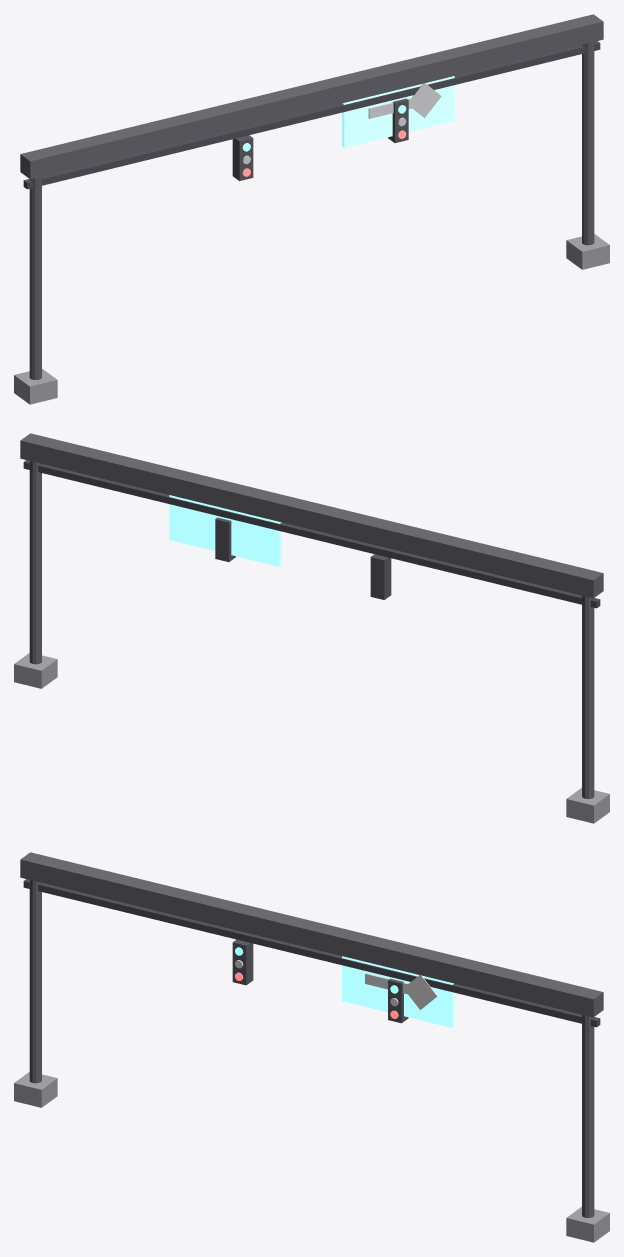
The model's file is bt-fh6-gantry.glb.
3 renders of one model, top to bottom at view 1: azimuth 30°, elevation 25°; view 2: azimuth 150°, elevation 25°; view 3: azimuth 330°, elevation 25°, orthographic.
Parts seen in each view (by area): view 1: bt-fh6-gantry_beam, bt-fh6-gantry_truss, bt-fh6-gantry_bluesign, bt-fh6-gantry_post1, bt-fh6-gantry_post-1, bt-fh6-gantry_foot1, bt-fh6-gantry_foot-1, bt-fh6-gantry_sigbox-2.0, bt-fh6-gantry_sigbox2.5, bt-fh6-gantry_arw1; view 2: bt-fh6-gantry_beam, bt-fh6-gantry_truss, bt-fh6-gantry_bluesign, bt-fh6-gantry_post1, bt-fh6-gantry_post-1, bt-fh6-gantry_foot1, bt-fh6-gantry_foot-1, bt-fh6-gantry_sigbox-2.0, bt-fh6-gantry_sigbox2.5; view 3: bt-fh6-gantry_beam, bt-fh6-gantry_truss, bt-fh6-gantry_bluesign, bt-fh6-gantry_post-1, bt-fh6-gantry_post1, bt-fh6-gantry_foot-1, bt-fh6-gantry_foot1, bt-fh6-gantry_sigbox-2.0, bt-fh6-gantry_sigbox2.5, bt-fh6-gantry_arw1, bt-fh6-gantry_arw2.
Boxes of the visible parts, x1=… form: bt-fh6-gantry_beam: x1=20, y1=14, x2=603, y2=179; bt-fh6-gantry_truss: x1=23, y1=41, x2=600, y2=189; bt-fh6-gantry_bluesign: x1=342, y1=76, x2=454, y2=147; bt-fh6-gantry_post1: x1=582, y1=42, x2=594, y2=245; bt-fh6-gantry_post-1: x1=29, y1=176, x2=41, y2=379; bt-fh6-gantry_foot1: x1=566, y1=234, x2=609, y2=269; bt-fh6-gantry_foot-1: x1=14, y1=369, x2=57, y2=404; bt-fh6-gantry_sigbox-2.0: x1=232, y1=135, x2=253, y2=180; bt-fh6-gantry_sigbox2.5: x1=388, y1=98, x2=408, y2=142; bt-fh6-gantry_arw1: x1=368, y1=93, x2=431, y2=118; bt-fh6-gantry_beam: x1=20, y1=433, x2=603, y2=598; bt-fh6-gantry_truss: x1=23, y1=460, x2=600, y2=608; bt-fh6-gantry_bluesign: x1=169, y1=495, x2=281, y2=566; bt-fh6-gantry_post1: x1=29, y1=461, x2=41, y2=664; bt-fh6-gantry_post-1: x1=582, y1=595, x2=594, y2=798; bt-fh6-gantry_foot1: x1=14, y1=653, x2=57, y2=688; bt-fh6-gantry_foot-1: x1=566, y1=788, x2=609, y2=823; bt-fh6-gantry_sigbox-2.0: x1=370, y1=554, x2=391, y2=599; bt-fh6-gantry_sigbox2.5: x1=215, y1=517, x2=235, y2=561; bt-fh6-gantry_beam: x1=20, y1=852, x2=603, y2=1017; bt-fh6-gantry_truss: x1=23, y1=879, x2=600, y2=1027; bt-fh6-gantry_bluesign: x1=342, y1=956, x2=454, y2=1027; bt-fh6-gantry_post-1: x1=29, y1=880, x2=41, y2=1083; bt-fh6-gantry_post1: x1=582, y1=1014, x2=594, y2=1217; bt-fh6-gantry_foot-1: x1=14, y1=1072, x2=57, y2=1107; bt-fh6-gantry_foot1: x1=566, y1=1207, x2=609, y2=1242; bt-fh6-gantry_sigbox-2.0: x1=232, y1=939, x2=253, y2=985; bt-fh6-gantry_sigbox2.5: x1=388, y1=978, x2=408, y2=1023; bt-fh6-gantry_arw1: x1=365, y1=973, x2=427, y2=998; bt-fh6-gantry_arw2: x1=404, y1=975, x2=437, y2=1009.
Bounding box in the file's own units: 16.8 × 6.65 × 0.8.
